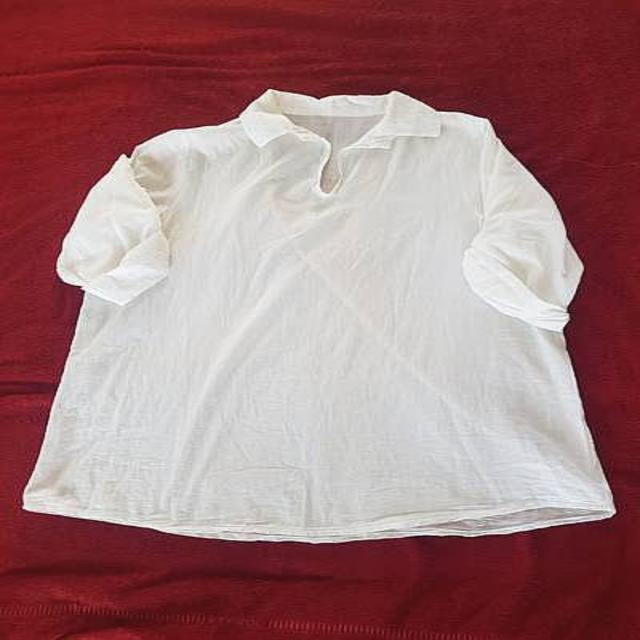T_SHIRT: (12, 78, 633, 549)
